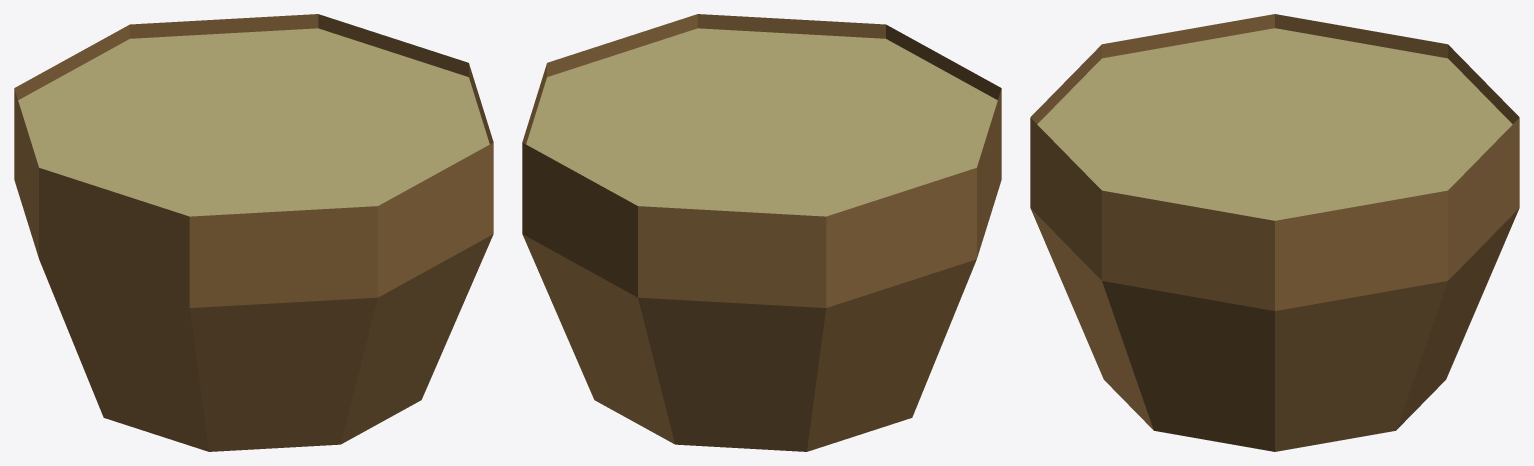
Rendered from flowerPot.glb.
The picture shows the model from 3 angles, left to right: view 1: azimuth 30°, elevation 25°; view 2: azimuth 150°, elevation 25°; view 3: azimuth 270°, elevation 25°; orthographic projection.
Parts seen in each view (by area): view 1: Cylinder; view 2: Cylinder; view 3: Cylinder.
Part boxes in pixels (left/top/right/bottom): Cylinder: left=14, top=14, right=493, bottom=451; Cylinder: left=522, top=14, right=1001, bottom=451; Cylinder: left=1030, top=14, right=1519, bottom=451.
Size of the model in its own units: 2 by 1.18 by 2.
